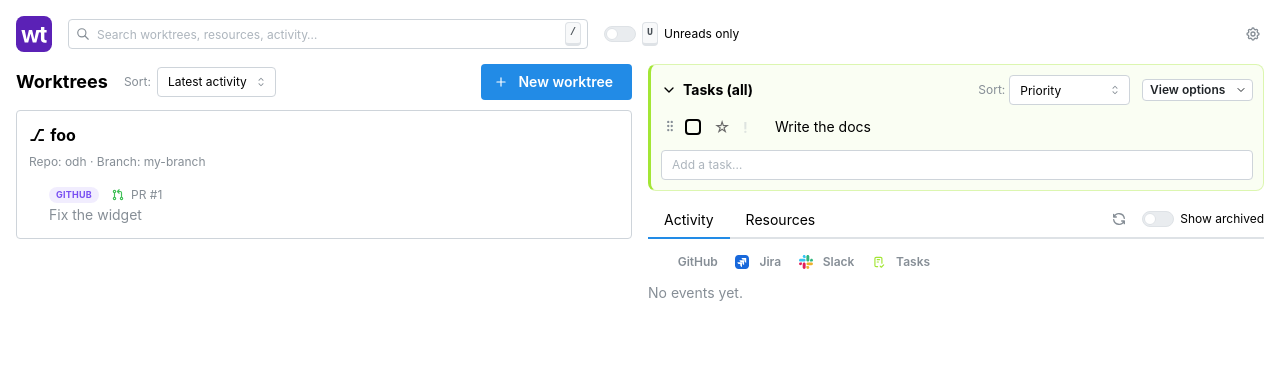
Test: HomePage search › a resource filter heads the Resources tab, and Esc clears it
Click the tab "Resources" at point(780, 221), box [730, 203, 831, 239]
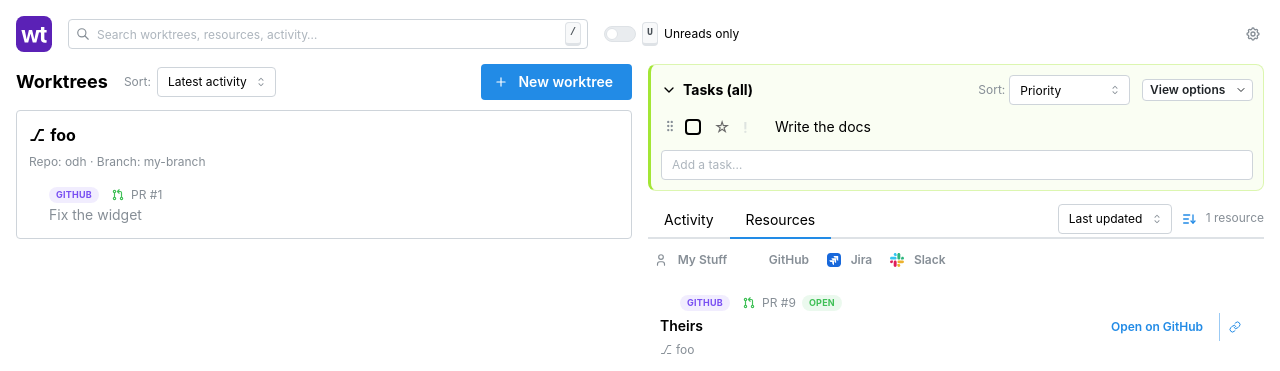
Expected: the text "Theirs" is shown, [660, 316, 703, 336]
Click the button "Jira" at point(851, 260), box [821, 249, 880, 271]
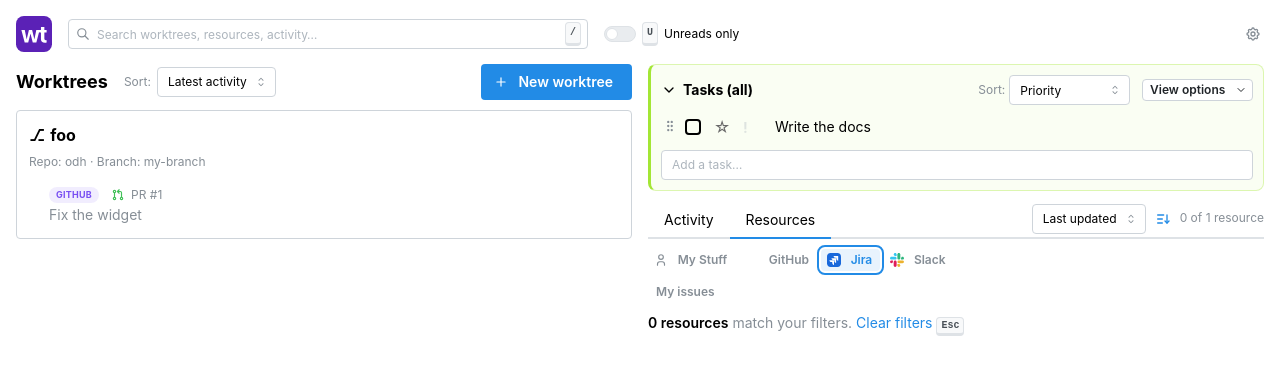
Expected: the button "Theirs" is gone
Expected: the element with test id "search-summary" reads "0 resources match your filters. Clear filters Esc", [648, 313, 964, 336]
Press Escape
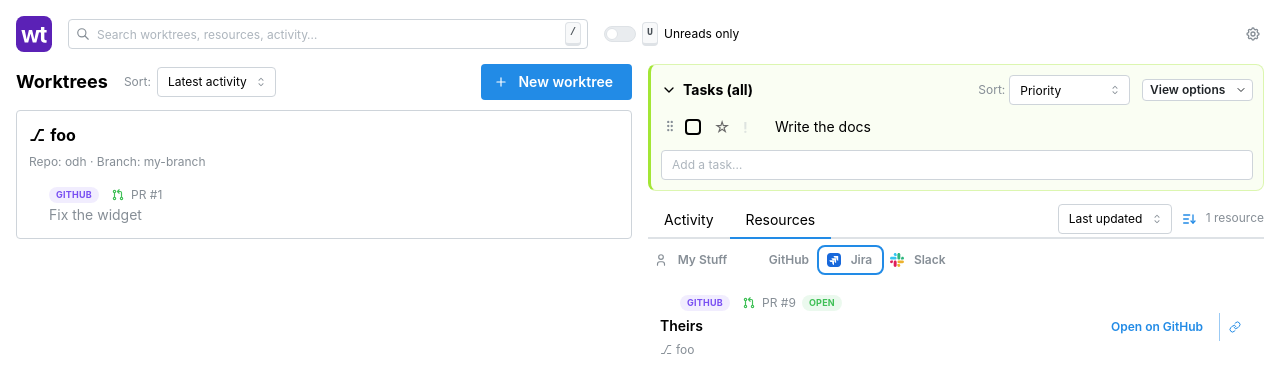
Expected: the text "Theirs" is shown, [660, 316, 703, 336]
Expected: the element with test id "search-summary" is gone
